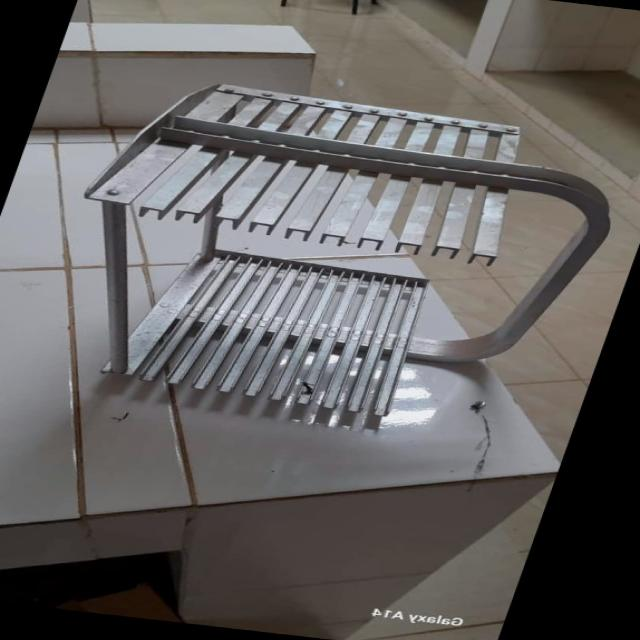Plate Rack: (5, 65, 640, 446)
